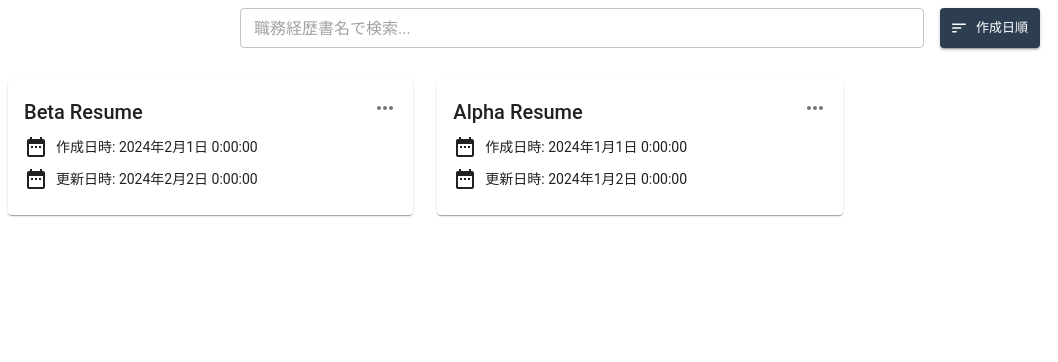
Test: resume list › 一覧画面でMarkdownエクスポート対象が存在しない場合は一覧を再取得すること
The width and height of the screenshot is (1058, 362).
Expected: the heading "Alpha Resume" is shown, [453,100,583,124]
Click the button named "職務経歴書メニューを開く" in the row of "Alpha Resume": (815, 108) [795,88,835,128]
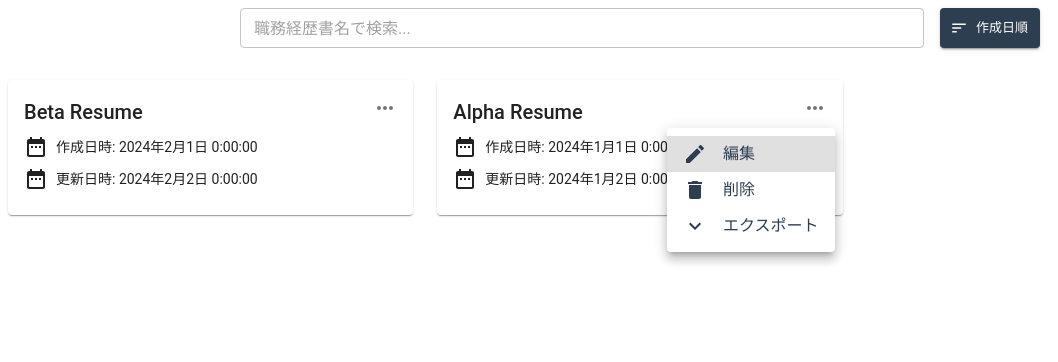
Hover over the menu item "エクスポート": (751, 226) [683,214,818,238]
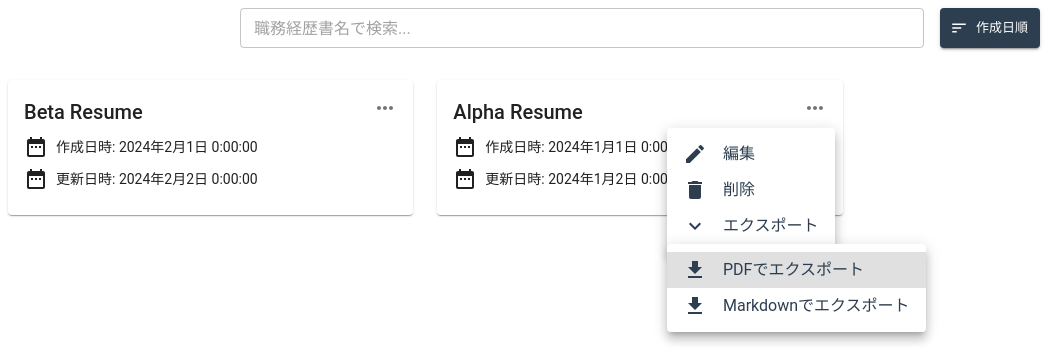
Click the menu item "Markdownでエクスポート": (796, 306) [667,288,926,324]
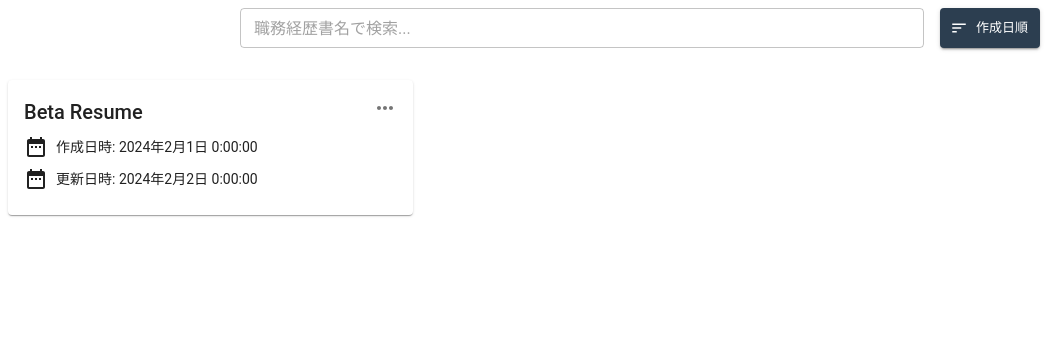
Expected: the heading "Beta Resume" is shown, [24,100,143,124]
Expected: the heading "Alpha Resume" is gone
